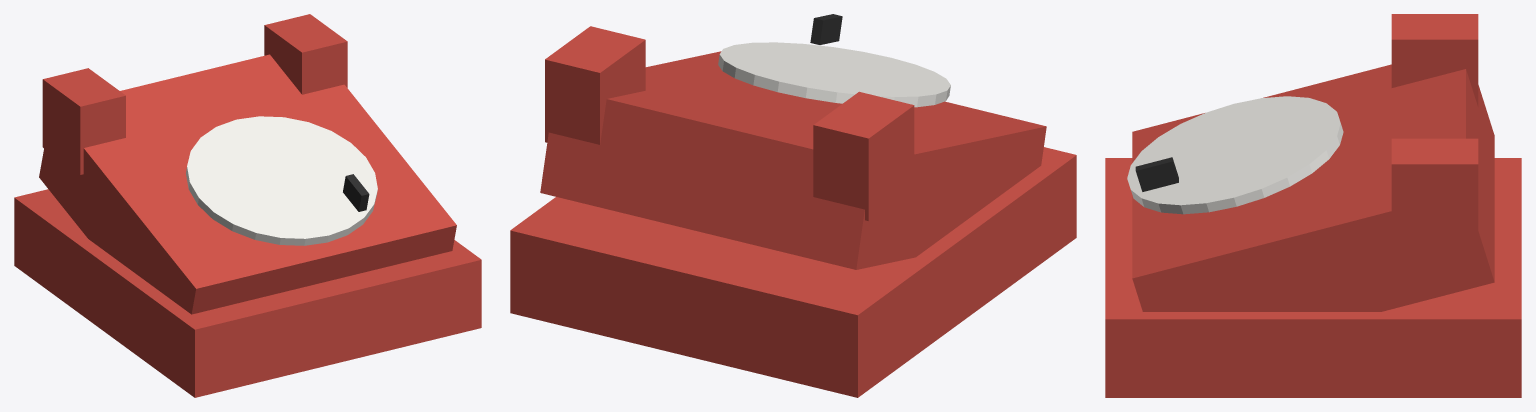
Rendered from phone_base.glb.
The picture shows the model from 3 angles, left to right: view 1: azimuth 30°, elevation 25°; view 2: azimuth 150°, elevation 25°; view 3: azimuth 270°, elevation 25°; orthographic projection. The views are drawn at different scales.
Parts seen in each view (by area): view 1: PhoneBase; view 2: PhoneBase; view 3: PhoneBase.
Part boxes in pixels (x1,y1,x2,y2): PhoneBase: (14, 14, 481, 397); PhoneBase: (510, 14, 1076, 397); PhoneBase: (1105, 14, 1521, 397).
Bounding box in the file's own units: 0.22 × 0.145 × 0.24.
